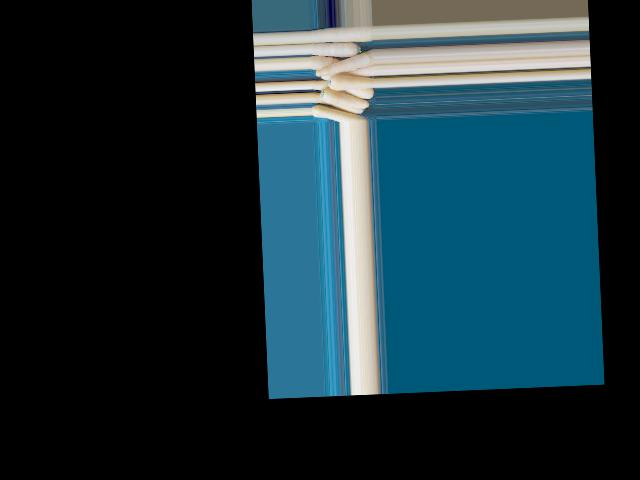carrot: (308, 27, 371, 43)
